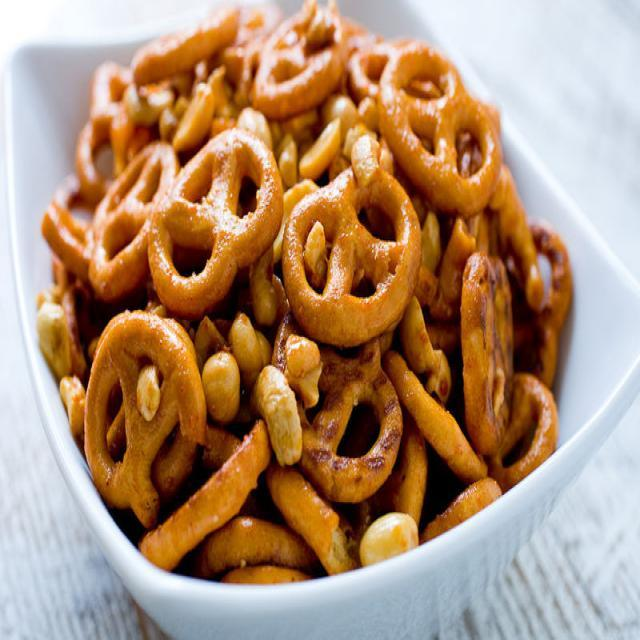Salatini: (40, 9, 576, 581)
